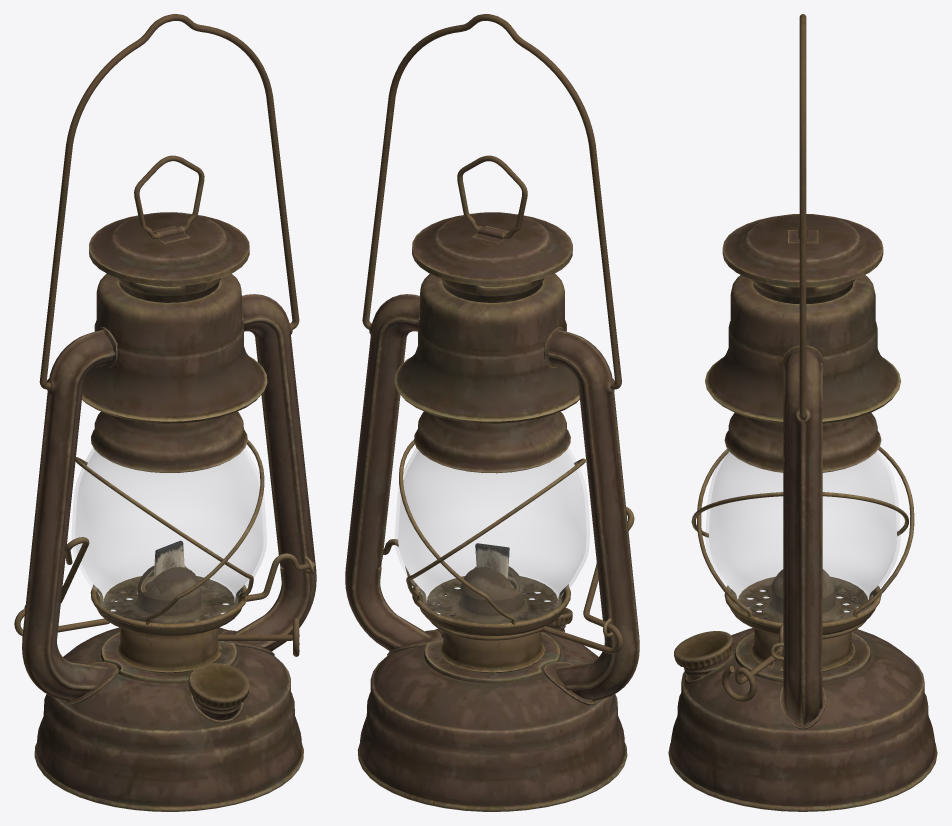
Rendered from ph-hurricane-lantern.glb.
3 views of the same model, side by side, from view 1: azimuth 30°, elevation 25°; view 2: azimuth 150°, elevation 25°; view 3: azimuth 270°, elevation 25° (orthographic).
Parts seen in each view (by area): view 1: Lantern_01, Lantern_01_glass; view 2: Lantern_01, Lantern_01_glass; view 3: Lantern_01, Lantern_01_glass.
Part boxes in pixels (bbox=[...]): Lantern_01: bbox=[14, 14, 316, 811]; Lantern_01_glass: bbox=[72, 448, 266, 623]; Lantern_01: bbox=[345, 14, 639, 811]; Lantern_01_glass: bbox=[395, 447, 589, 623]; Lantern_01: bbox=[668, 14, 937, 811]; Lantern_01_glass: bbox=[705, 449, 900, 622].
Size of the model in its own units: 0.1221 by 0.2942 by 0.0972.
Materials: 2 (1 with a texture image).
